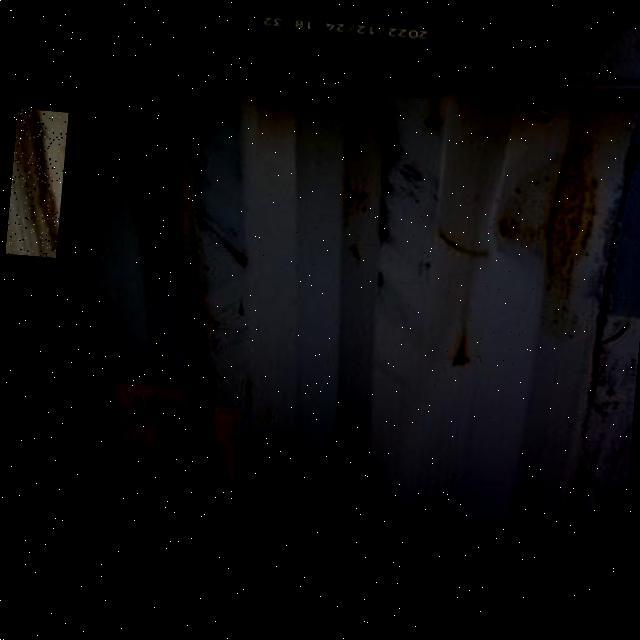Rust: (5, 108, 69, 258)
